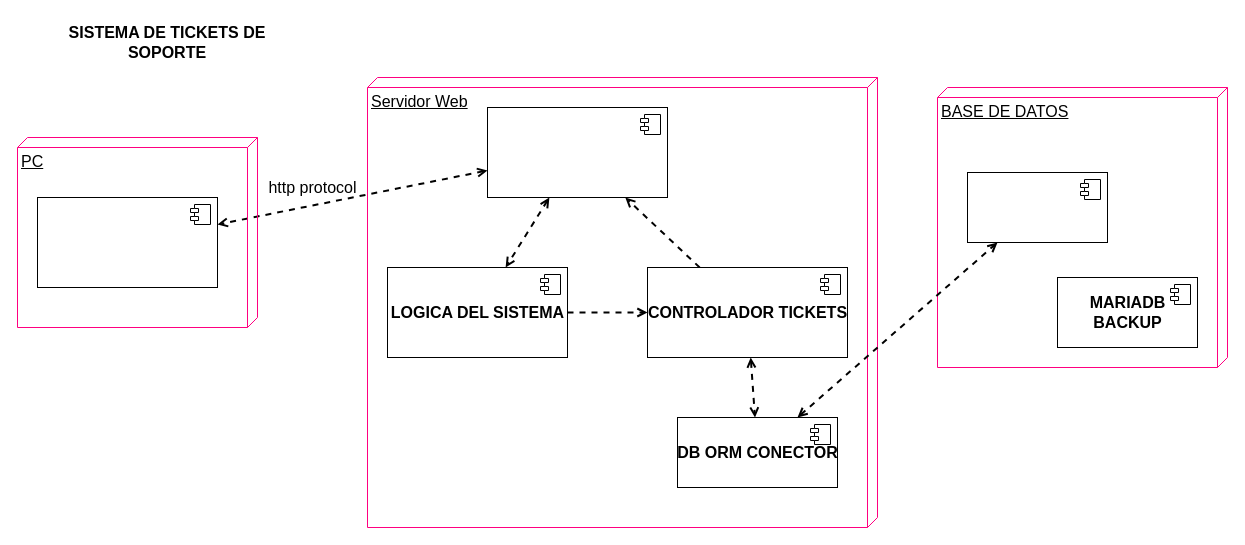
The diagram is 1245 pixels wide and 545 high, and some of its shapes have lost their labels. Each missing label, with the centre of its shape:
"INTERFAZ DE USUARIO DEL SISTEMA" goes at pixel 577 152.
"MYSQL" goes at pixel 1037 207.
"Web Browser" goes at pixel 127 242.
